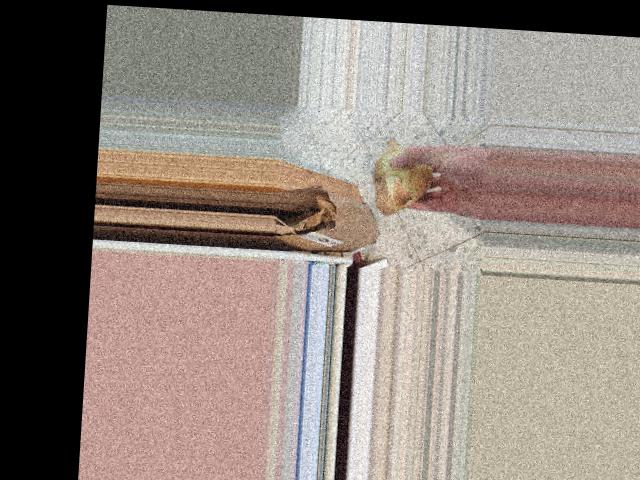onion: (361, 142, 441, 218)
